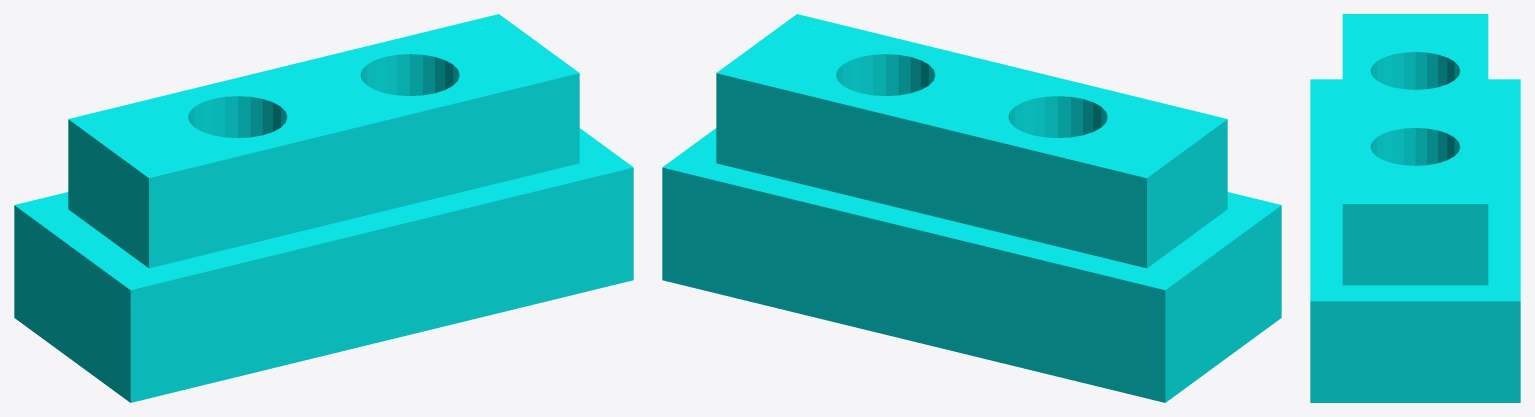
Rendered from SCHUNK_1500102Grundbacke_EGK_25_13.obj.
The picture shows the model from 3 angles, left to right: view 1: azimuth 30°, elevation 25°; view 2: azimuth 150°, elevation 25°; view 3: azimuth 270°, elevation 25°; orthographic projection. The views are drawn at different scales.
Bounding box in the file's own units: 0.0234 × 0.009 × 0.00936.
